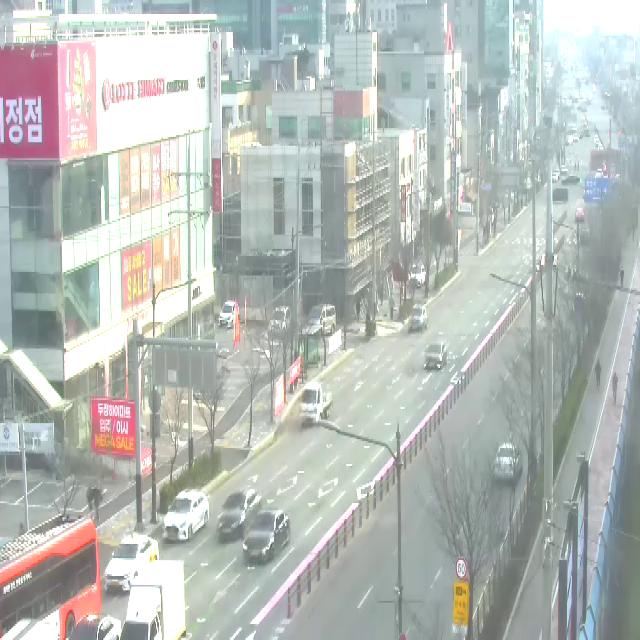Bus: (0, 514, 102, 640)
Car: (104, 533, 159, 594), (243, 506, 290, 564), (162, 488, 209, 540), (218, 489, 262, 541), (68, 615, 121, 640), (0, 621, 58, 640), (494, 443, 523, 479), (308, 306, 336, 340), (268, 307, 292, 338), (218, 300, 239, 330), (424, 343, 447, 369), (408, 306, 428, 334), (409, 264, 426, 288), (561, 176, 580, 186), (575, 208, 585, 223), (554, 168, 560, 180), (552, 173, 558, 183), (561, 166, 568, 174)
Truck: (116, 560, 186, 640), (299, 384, 331, 428)
